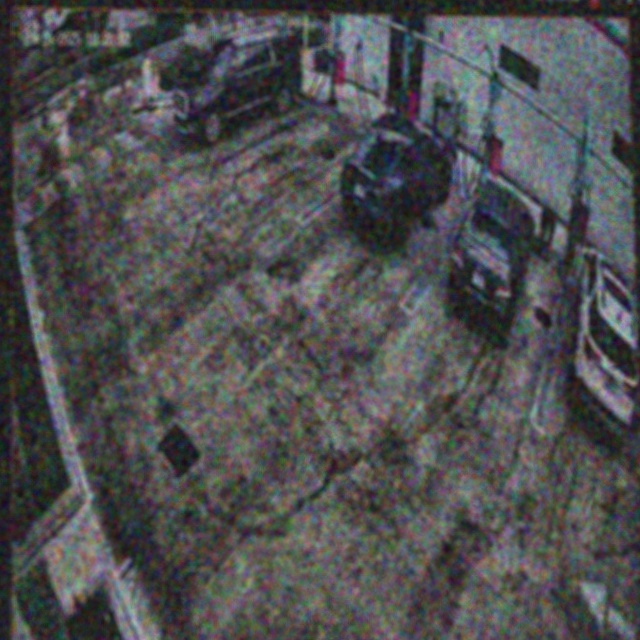Car: (341, 110, 455, 249), (450, 180, 537, 333)
